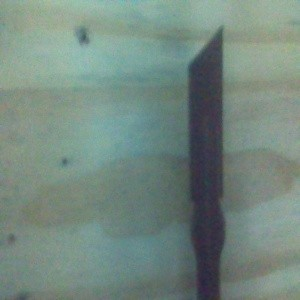cutter: (187, 24, 226, 300)
